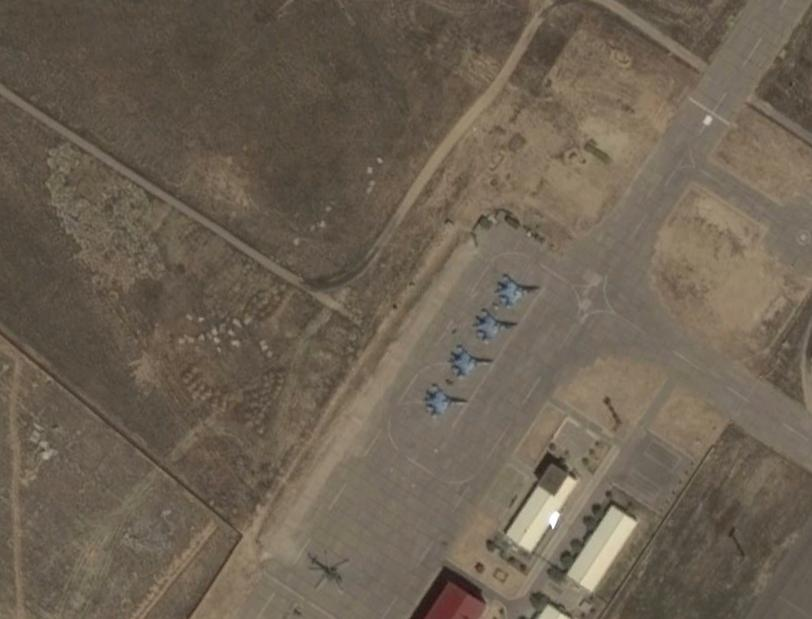A1: (492, 269, 541, 309), (470, 304, 519, 343), (421, 381, 467, 418), (448, 339, 492, 377)
